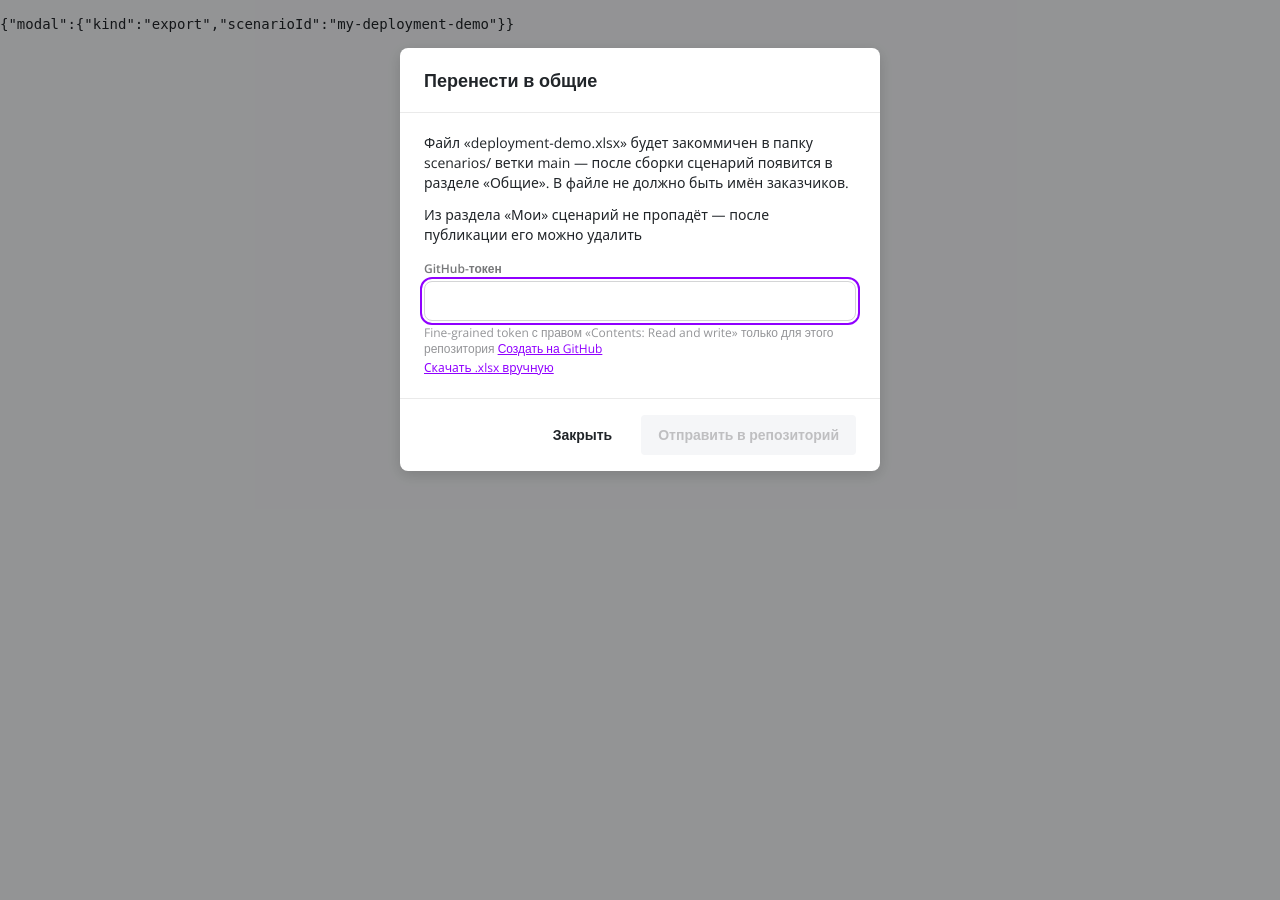
Scenario: ExportDialog — отправка в репозиторий (SPEC §4.2:255, ТК 35) › успех: publishScenario со сценарием и токеном; «Отправлено», ссылка на коммит, токен сохранён
Type "github_pat_fresh" into the password field labelled "GitHub-токен" at (640, 301), box [424,281,856,321]
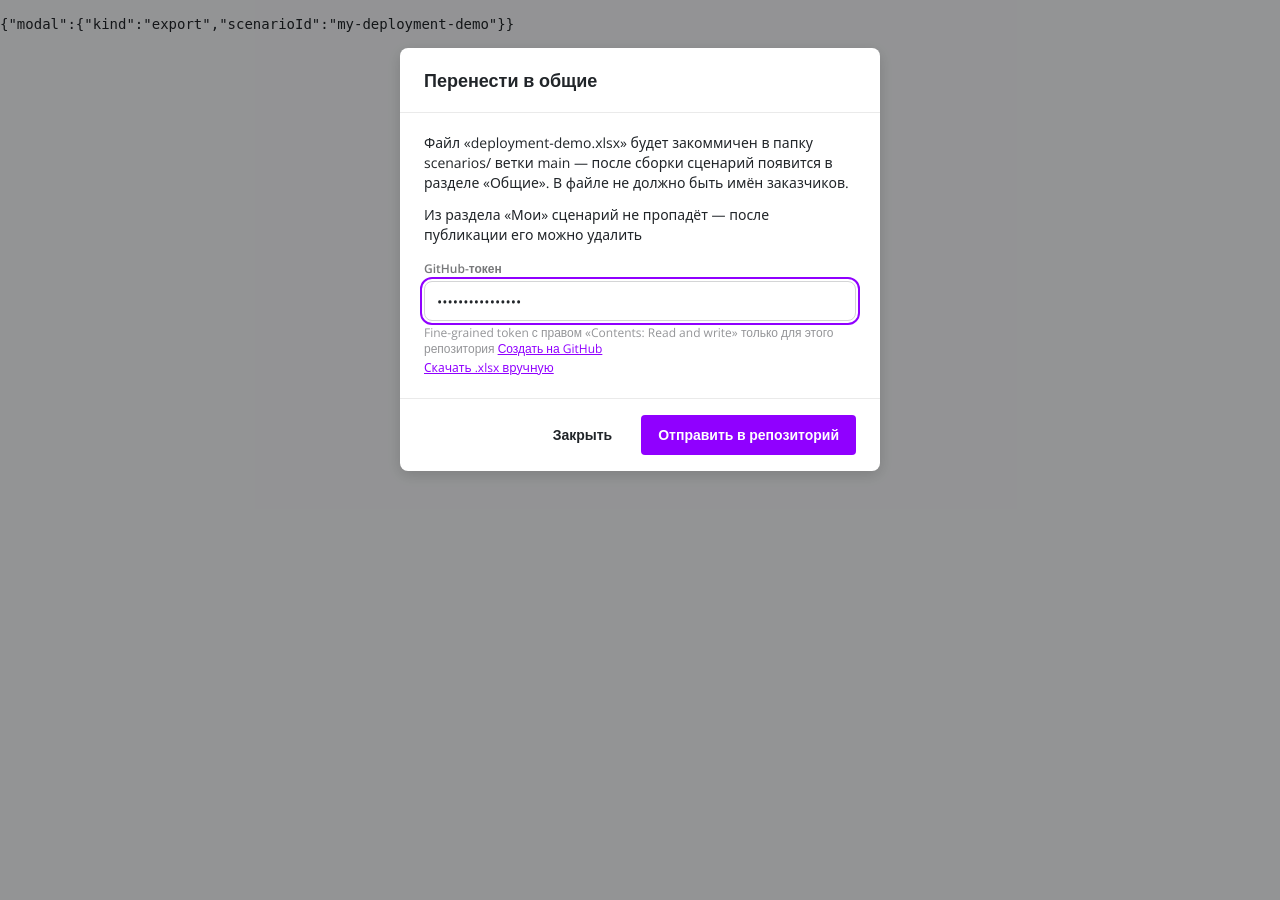
Click the button "Отправить в репозиторий" at (749, 435), box [641,415,856,455]
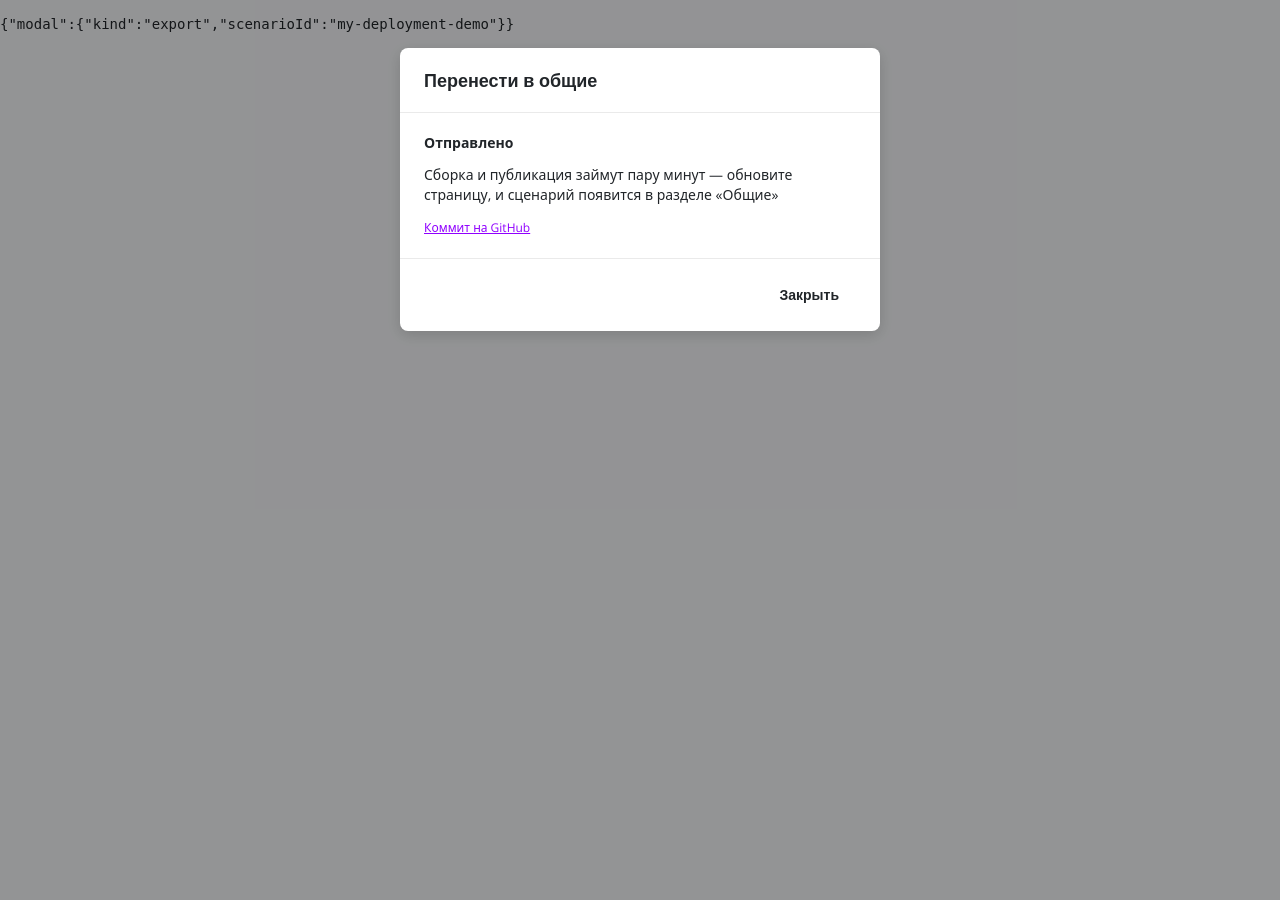
Result: the text "Отправлено" is shown at [424,133,513,152]
Result: the text "Сборка и публикация займут пару минут — обновите страницу, и сценарий появится в разделе «Общие»" is shown at [424,165,792,204]
Result: the buttons read "Закрыть", in this order at [762,275,856,315]
